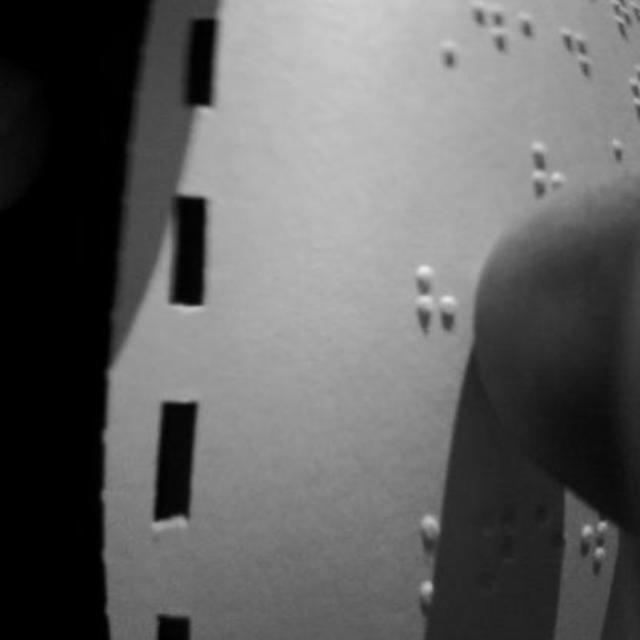braiile: (412, 260, 464, 372), (468, 0, 514, 96), (514, 1, 558, 91)
